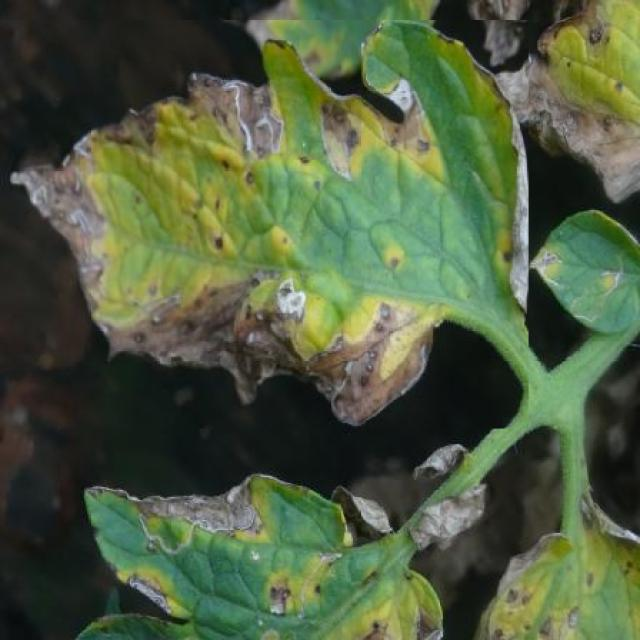Early Blight: (0, 21, 529, 429)
